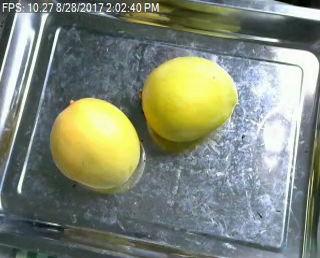Mango: (143, 54, 239, 145), (49, 95, 140, 188)
